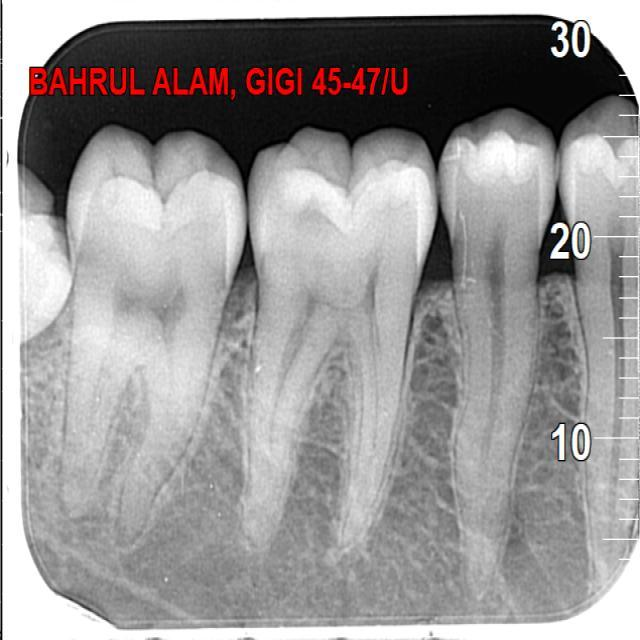individual-tooth-8tto: (243, 129, 440, 555), (66, 123, 255, 545), (438, 113, 573, 582)
